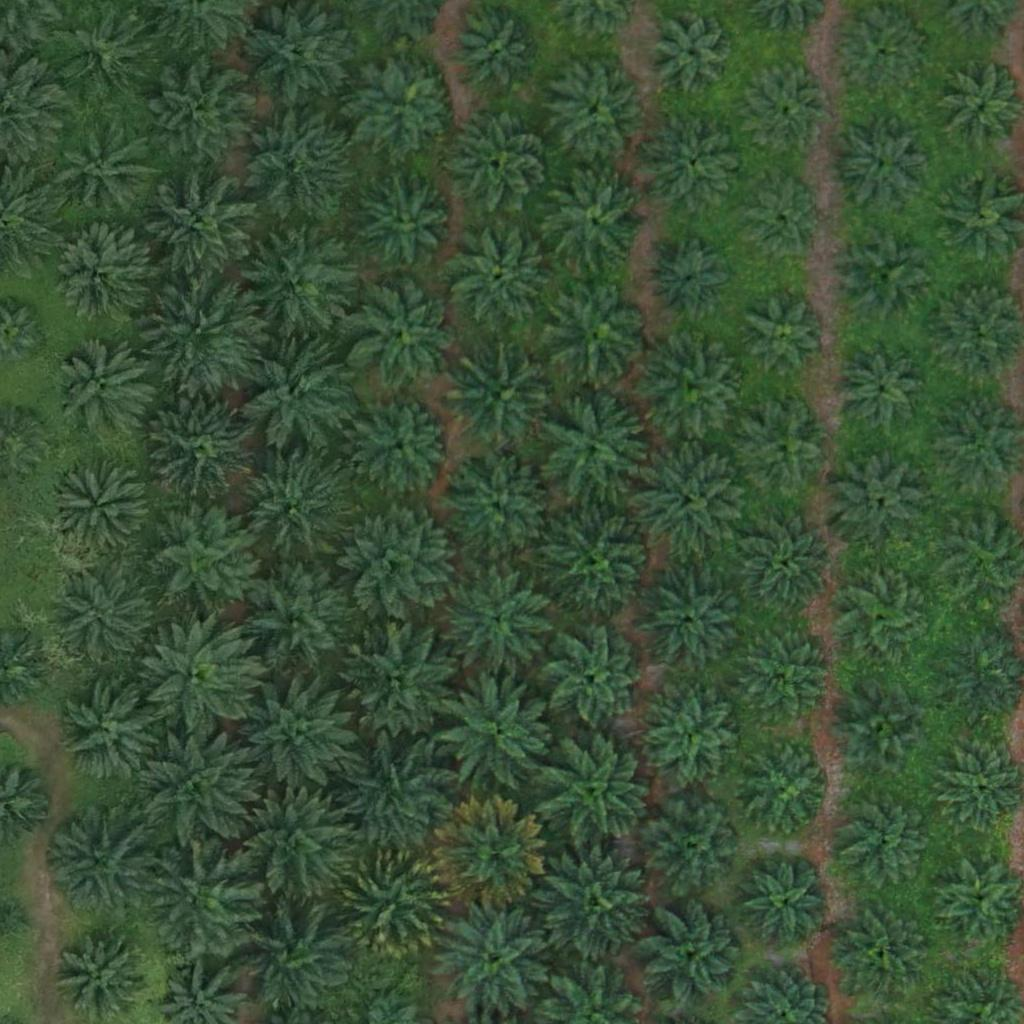Kelapa_Sawit: (43, 806, 156, 920), (239, 105, 352, 218), (145, 59, 258, 172), (147, 277, 260, 390), (148, 394, 261, 507), (244, 225, 357, 338), (241, 339, 354, 452), (235, 450, 348, 563), (243, 565, 356, 678), (343, 505, 456, 618), (346, 619, 459, 732), (345, 737, 458, 850), (536, 392, 649, 505), (634, 444, 747, 557), (637, 564, 750, 677), (434, 798, 547, 911), (336, 847, 449, 960), (436, 899, 549, 1012), (145, 170, 257, 284), (143, 734, 255, 848), (237, 904, 349, 1018), (146, 840, 258, 954), (143, 503, 255, 616), (142, 624, 254, 737), (245, 676, 357, 789), (348, 279, 460, 392), (443, 218, 555, 331), (450, 345, 562, 458), (443, 451, 555, 564), (443, 570, 555, 683), (440, 676, 552, 789), (543, 510, 655, 623), (544, 734, 656, 847), (537, 847, 649, 960), (234, 791, 346, 904), (646, 112, 746, 213), (545, 59, 645, 160), (545, 176, 645, 277), (449, 113, 549, 214), (355, 56, 455, 157), (352, 170, 452, 271), (48, 227, 148, 328), (54, 339, 154, 440), (49, 457, 149, 558), (354, 396, 454, 497), (544, 630, 644, 731), (736, 625, 836, 726), (836, 224, 936, 325), (837, 788, 937, 889), (834, 905, 934, 1006), (643, 796, 743, 897), (641, 905, 741, 1006), (831, 114, 931, 214), (52, 3, 152, 103), (56, 122, 156, 222), (59, 571, 159, 671), (61, 684, 161, 784), (546, 280, 646, 380), (644, 340, 744, 440), (732, 398, 832, 498), (830, 446, 930, 546), (453, 8, 541, 96), (838, 347, 926, 435), (837, 569, 925, 657), (840, 688, 928, 776), (839, 15, 926, 103), (651, 7, 738, 95), (649, 694, 736, 782), (744, 518, 831, 606), (740, 747, 827, 835), (743, 862, 830, 950), (59, 930, 146, 1018), (751, 72, 826, 148), (654, 242, 729, 318), (748, 295, 823, 371), (743, 187, 818, 262), (3, 907, 28, 932)
